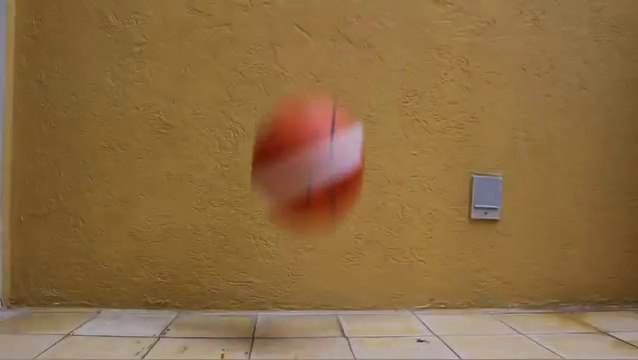ball: (250, 92, 371, 241)
